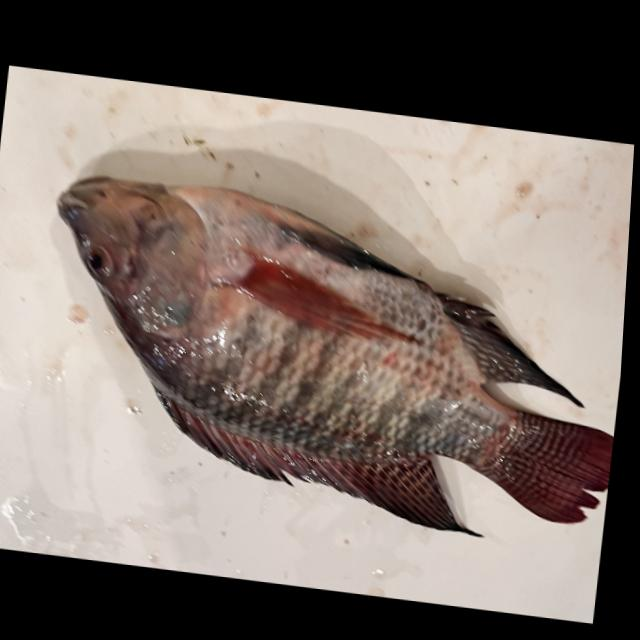Tilapia: (25, 162, 631, 554)
